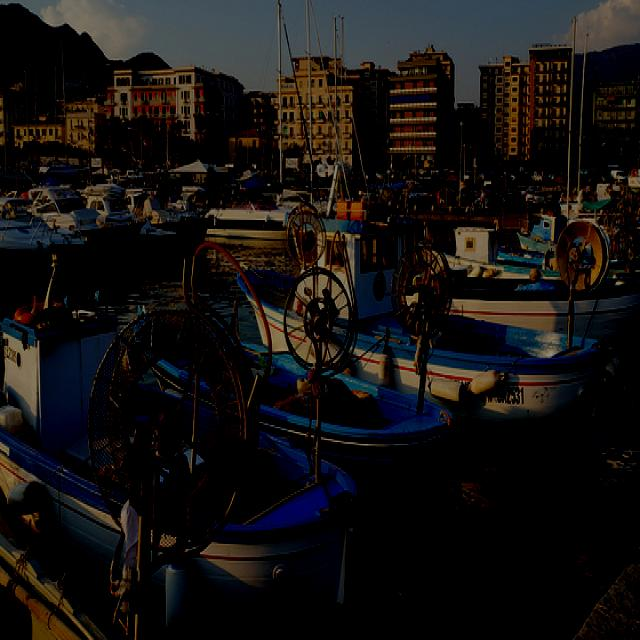Vehicle: (408, 183, 428, 204), (532, 190, 548, 210), (504, 192, 516, 208), (490, 170, 506, 182), (525, 188, 535, 205), (546, 190, 555, 204), (598, 172, 610, 182), (530, 172, 542, 182), (508, 172, 518, 182)
